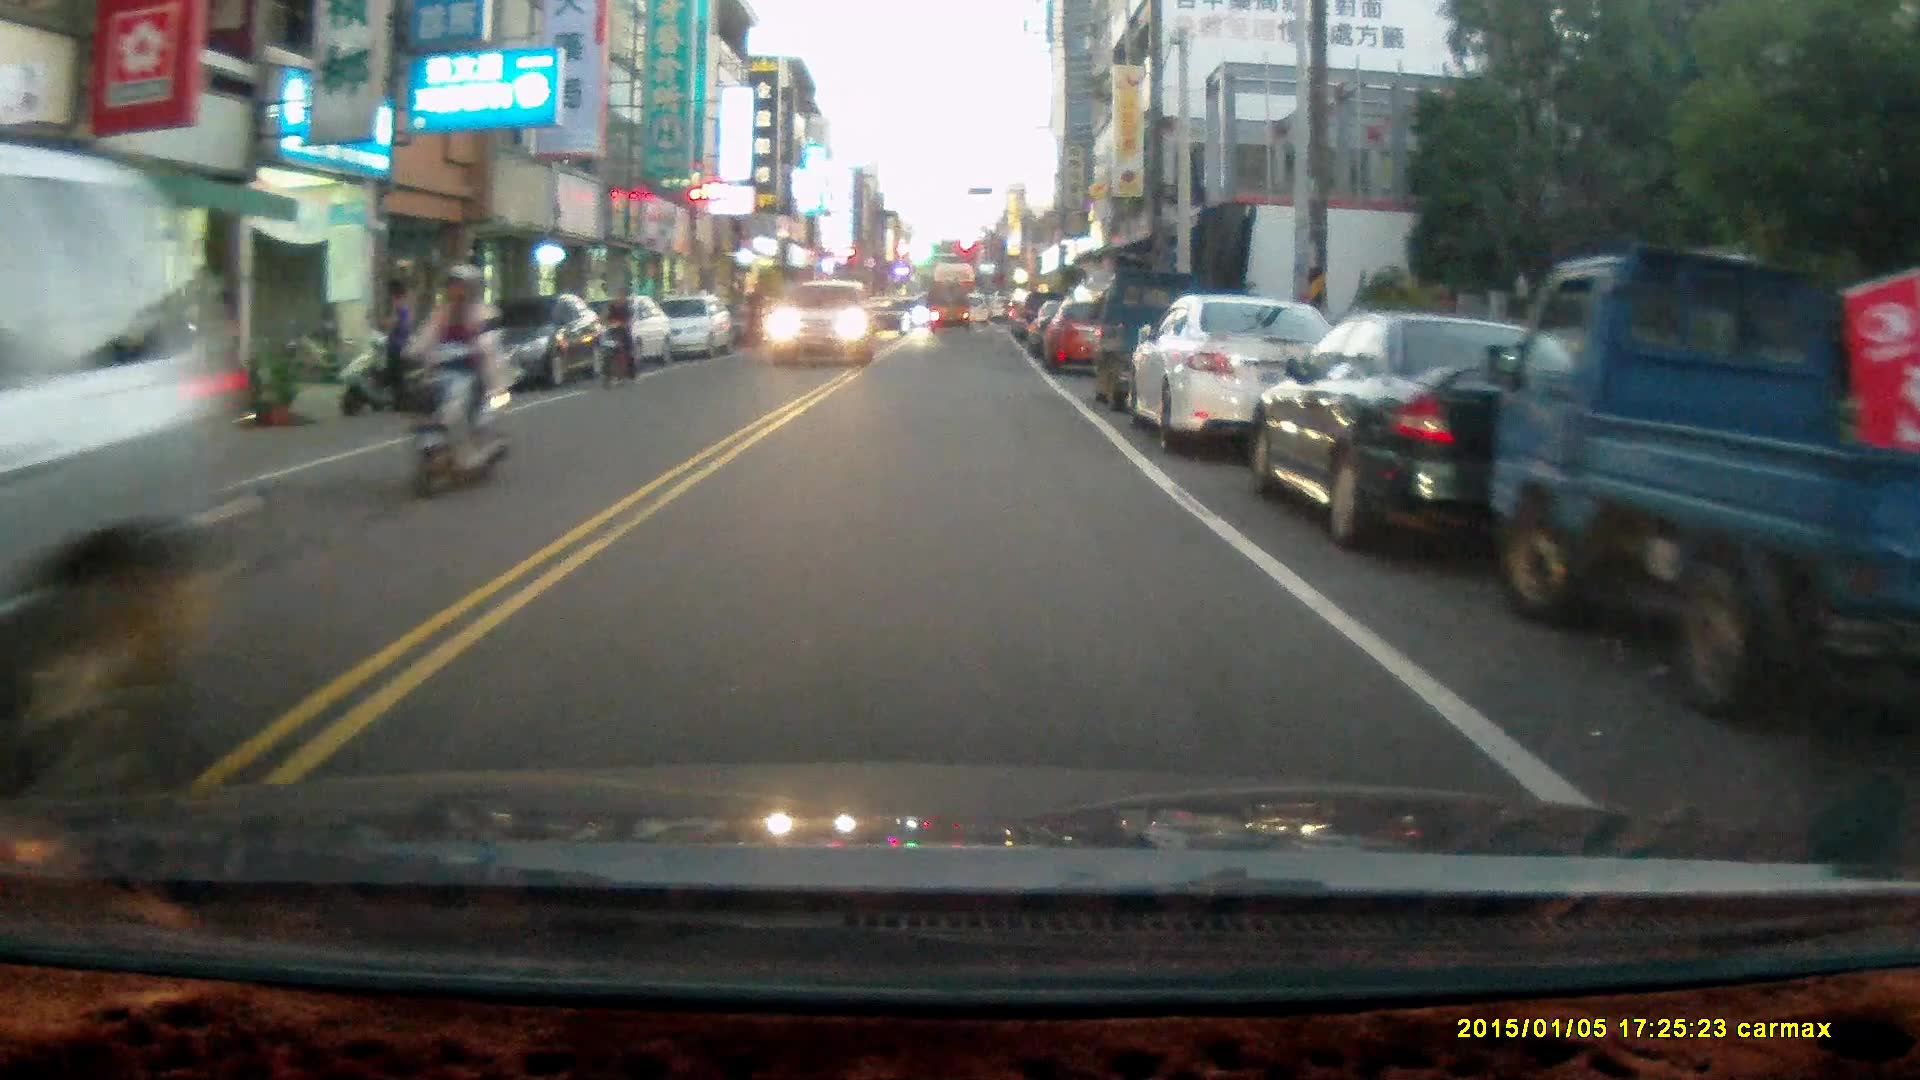pedestrian: (365, 278, 415, 417), (744, 281, 767, 344)
rider: (403, 260, 515, 500), (596, 286, 639, 387)
vehicle: (1492, 247, 1918, 739), (1250, 316, 1674, 561), (1130, 293, 1346, 456), (456, 297, 607, 389), (766, 279, 877, 365), (1042, 300, 1131, 377), (652, 296, 738, 364), (859, 296, 916, 342), (928, 283, 972, 334)
